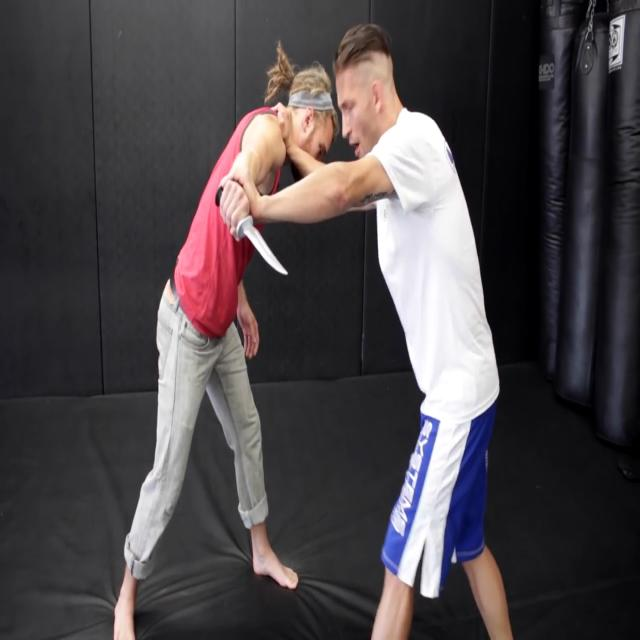knife: (237, 208, 293, 286)
